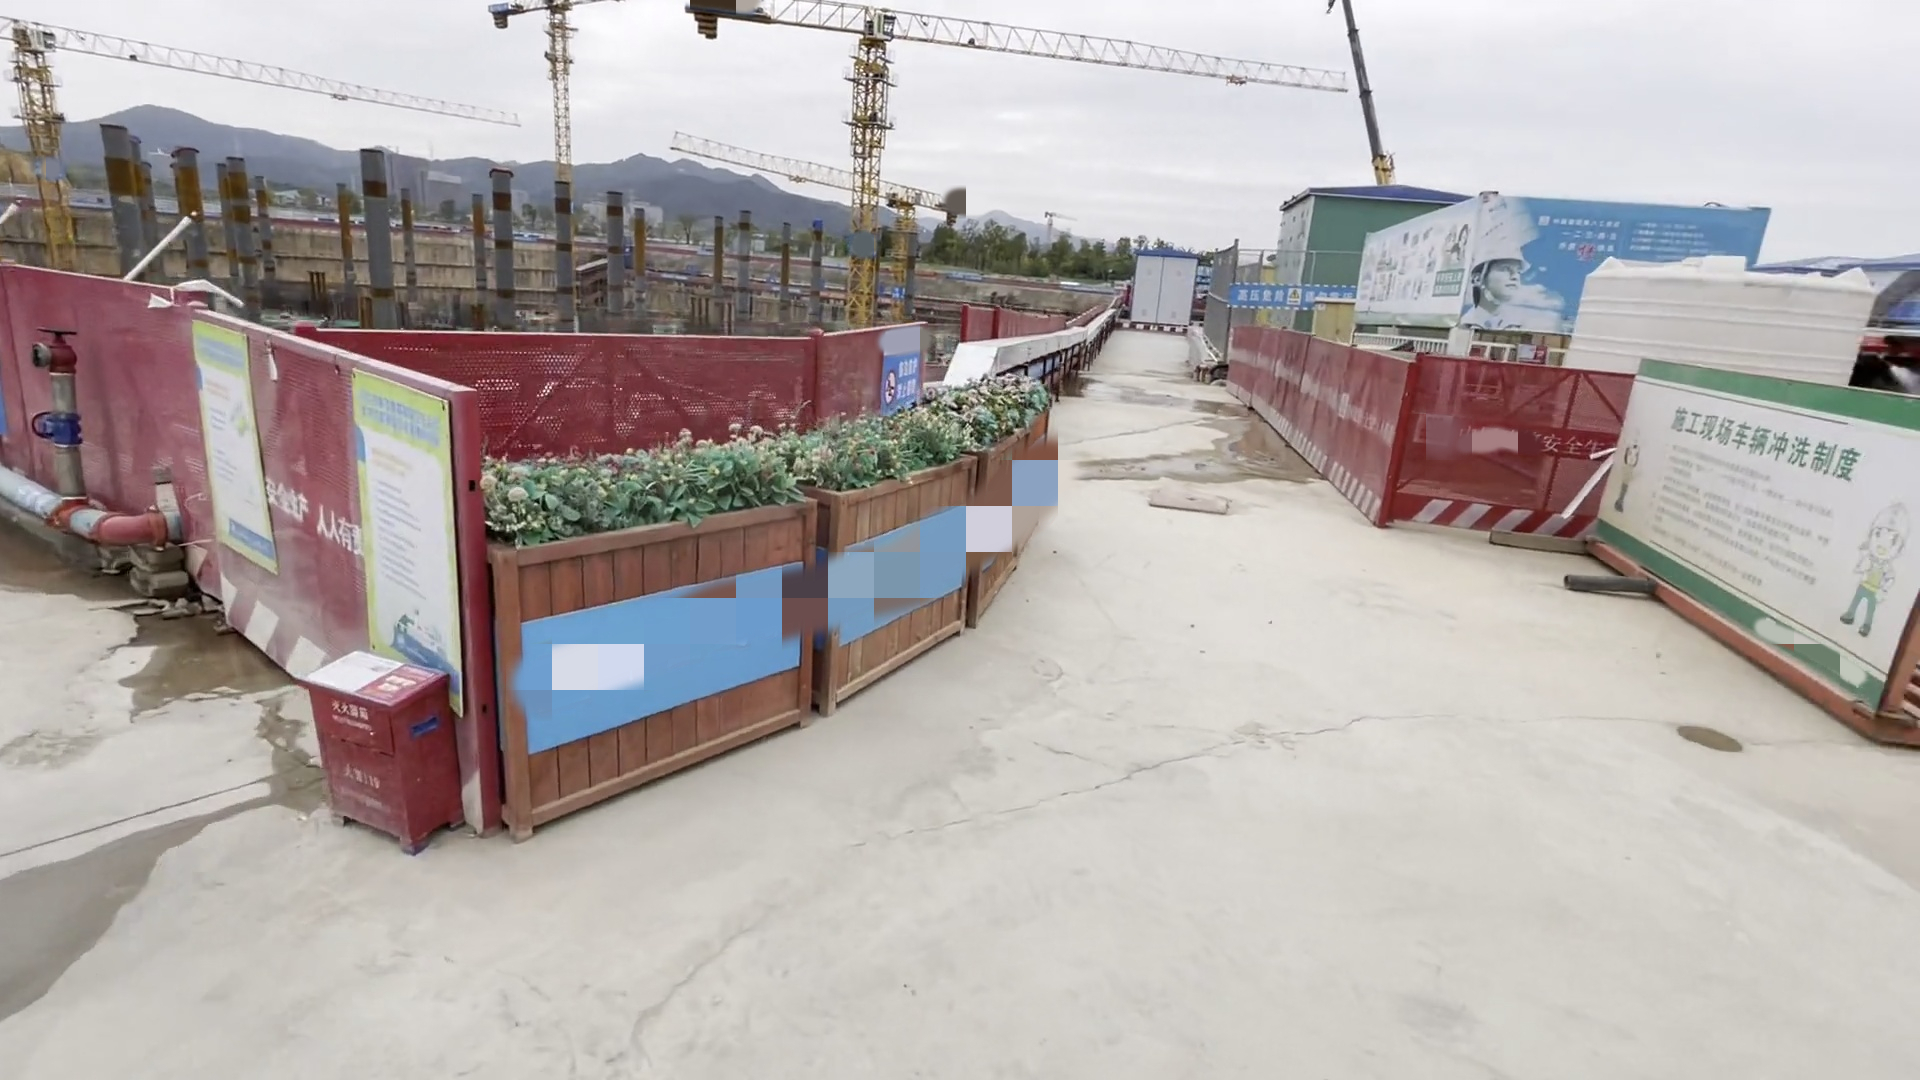fence: (338, 320, 819, 442), (1396, 345, 1606, 542), (1233, 327, 1412, 531)
slogan: (1236, 289, 1311, 309)
